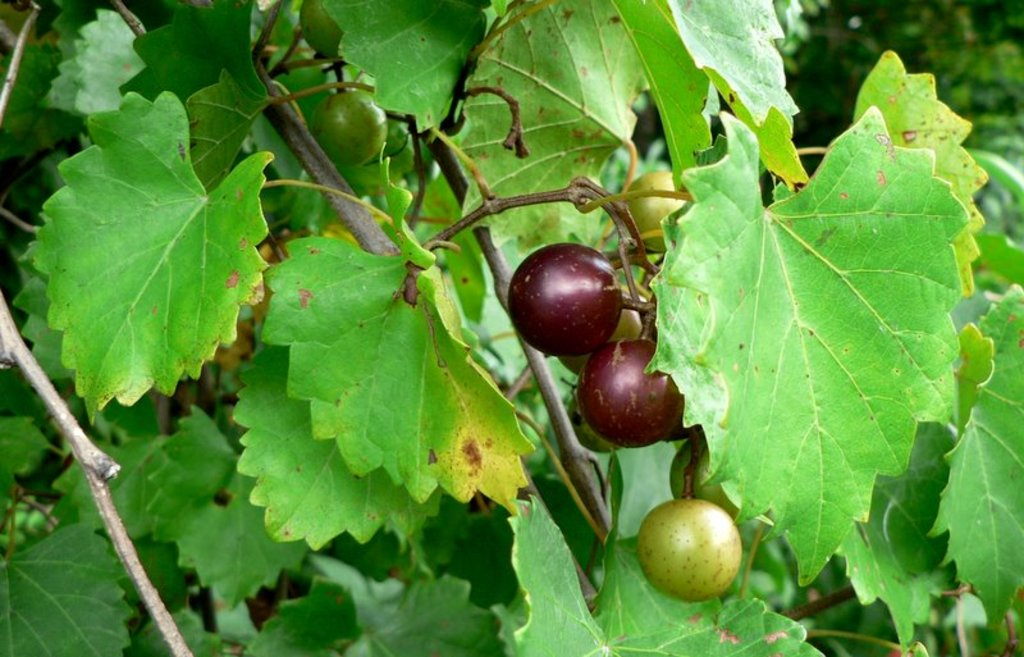Apple: (637, 490, 753, 607)
